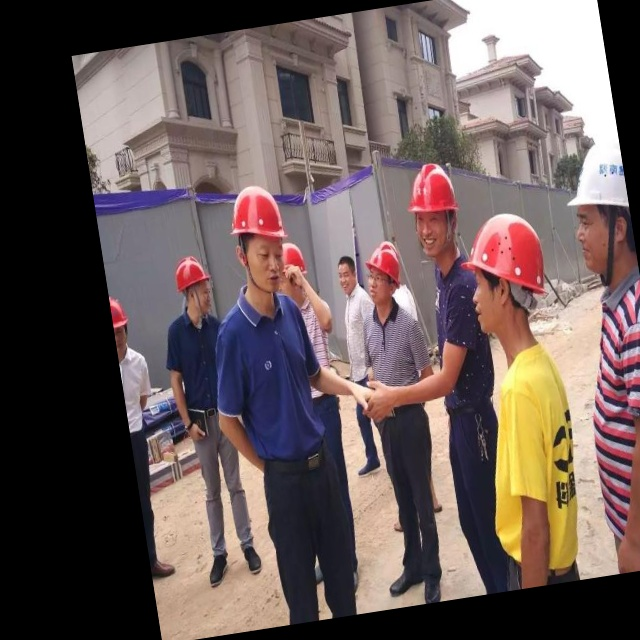Con_Casco: (453, 209, 554, 344), (225, 182, 295, 296)
Sin_Chaleco: (471, 345, 595, 589), (207, 285, 330, 471)
